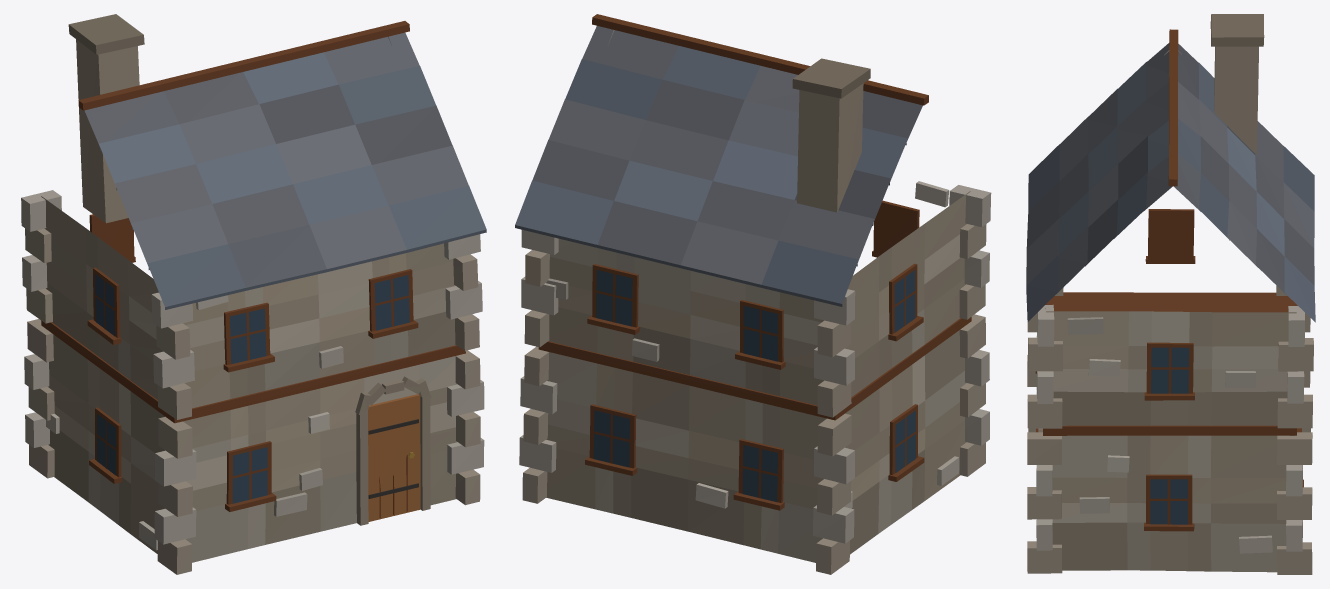
File: stone-house.glb
3 renders of one model, left to right at view 1: azimuth 30°, elevation 25°; view 2: azimuth 150°, elevation 25°; view 3: azimuth 270°, elevation 25°, orthographic. The views are drawn at different scales.
Parts seen in each view (by area): view 1: buildings/stone-house; view 2: buildings/stone-house; view 3: buildings/stone-house.
Boxes of the visible parts, box(x1,y1,x2,y2) form: buildings/stone-house: box(21, 14, 486, 574); buildings/stone-house: box(515, 14, 991, 574); buildings/stone-house: box(1026, 14, 1315, 574).
Size of the model in its own units: 5.78 by 7.6 by 4.64.
